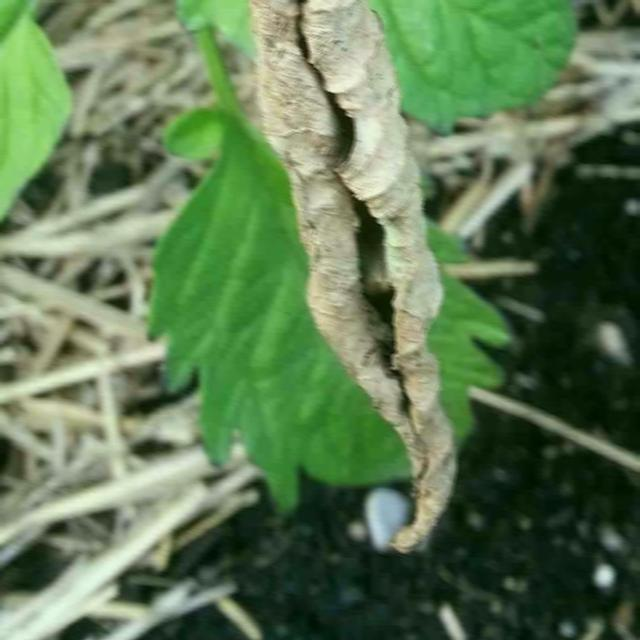Tomato leaf late blight: (74, 0, 542, 545)
